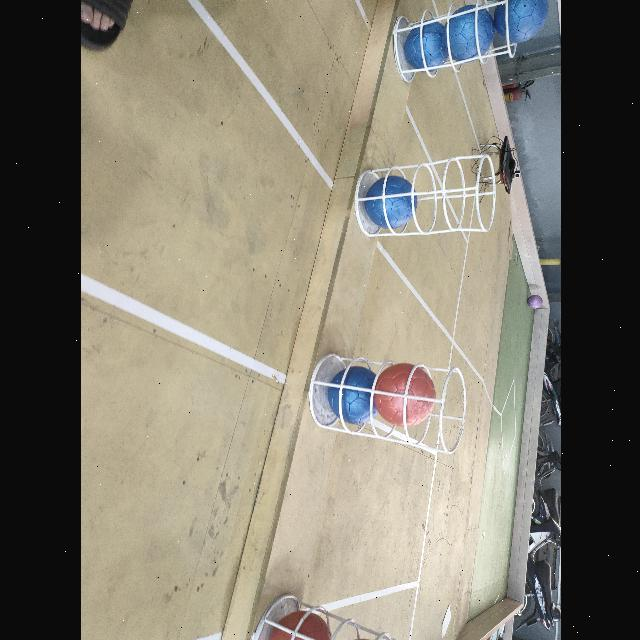B: (326, 364, 374, 426), (364, 174, 416, 230), (444, 6, 496, 62), (496, 0, 548, 44), (400, 23, 450, 68)
R: (372, 363, 436, 427), (262, 612, 331, 640), (332, 632, 394, 640)
